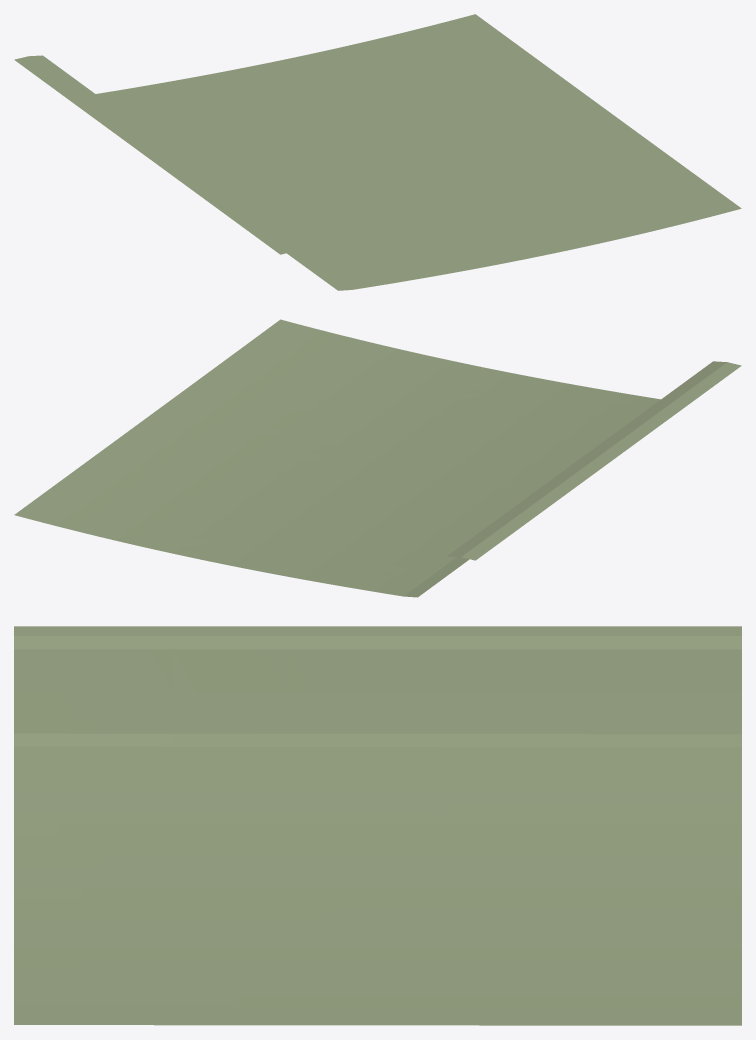
File: valley-8-10.glb
3 renders of one model, top to bottom at view 1: azimuth 30°, elevation 25°; view 2: azimuth 150°, elevation 25°; view 3: azimuth 270°, elevation 25°, orthographic. The views are drawn at different scales.
Visible parts, largest first — view 1: valley-8-10; view 2: valley-8-10; view 3: valley-8-10.
Boxes of the visible parts, box(x1,y1,x2,y2) form: valley-8-10: box(14, 14, 741, 290); valley-8-10: box(14, 319, 741, 597); valley-8-10: box(14, 626, 741, 1025).
Size of the model in its own units: 256 by 35.99 by 256.
